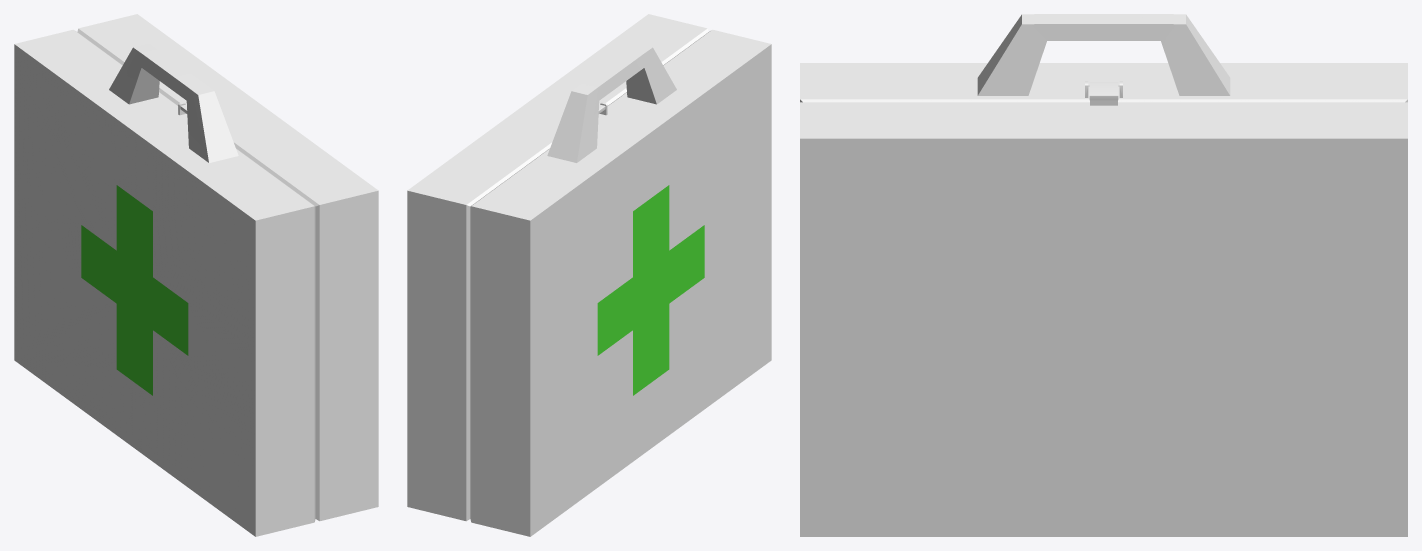
Rendered from addHPItem.fbx.
3 views of the same model, side by side, from view 1: azimuth 30°, elevation 25°; view 2: azimuth 150°, elevation 25°; view 3: azimuth 270°, elevation 25° (orthographic). The views are drawn at different scales.
Visible parts, largest first — view 1: Box001; view 2: Box001; view 3: Box001.
Boxes of the visible parts, x1=… form: Box001: x1=14, y1=14, x2=378, y2=536; Box001: x1=407, y1=14, x2=771, y2=536; Box001: x1=800, y1=14, x2=1407, y2=536.
Size of the model in its own units: 112 by 329 by 381.
Materials: 1 (1 with a texture image).
